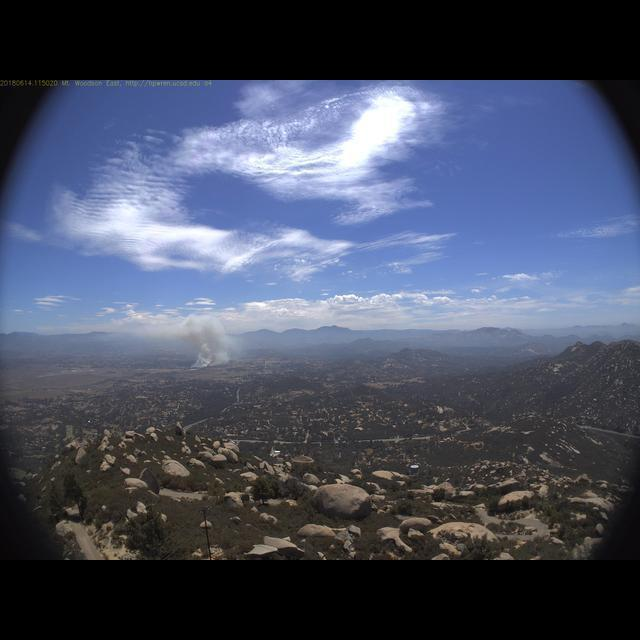Smoke: (177, 311, 245, 371)
